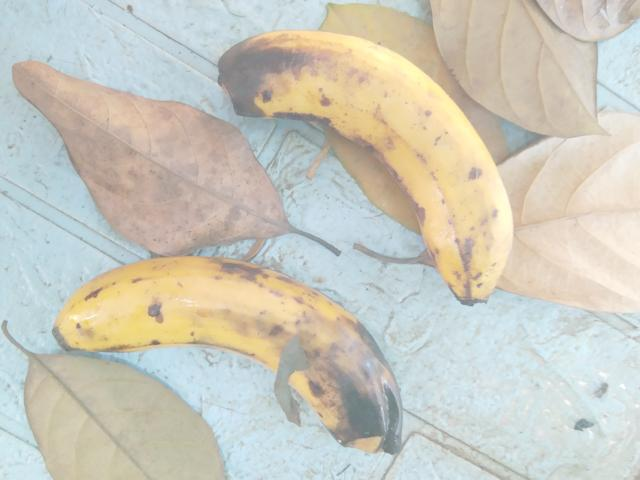overripe: (302, 26, 532, 303), (27, 228, 327, 392)
rotten: (275, 285, 417, 479), (205, 0, 336, 163)
